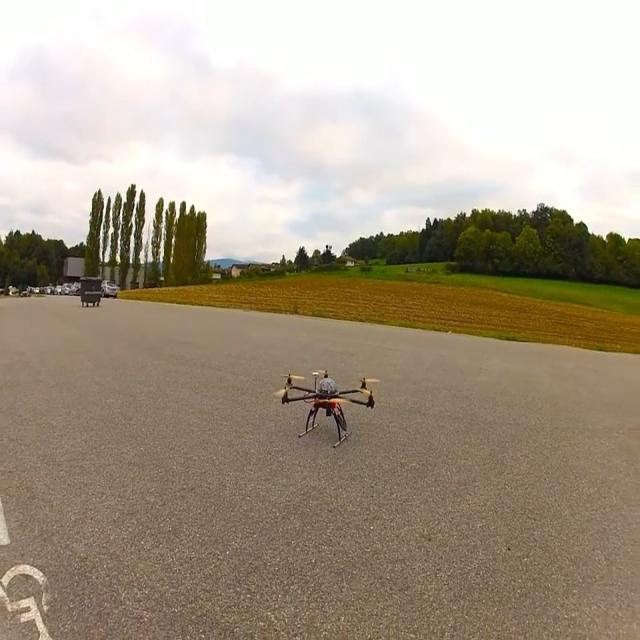drone: (273, 368, 380, 448)
